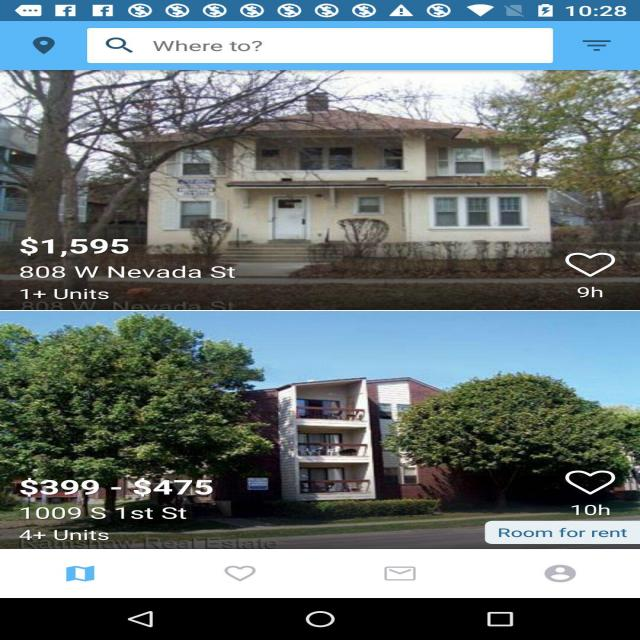image: (11, 74, 632, 304)
